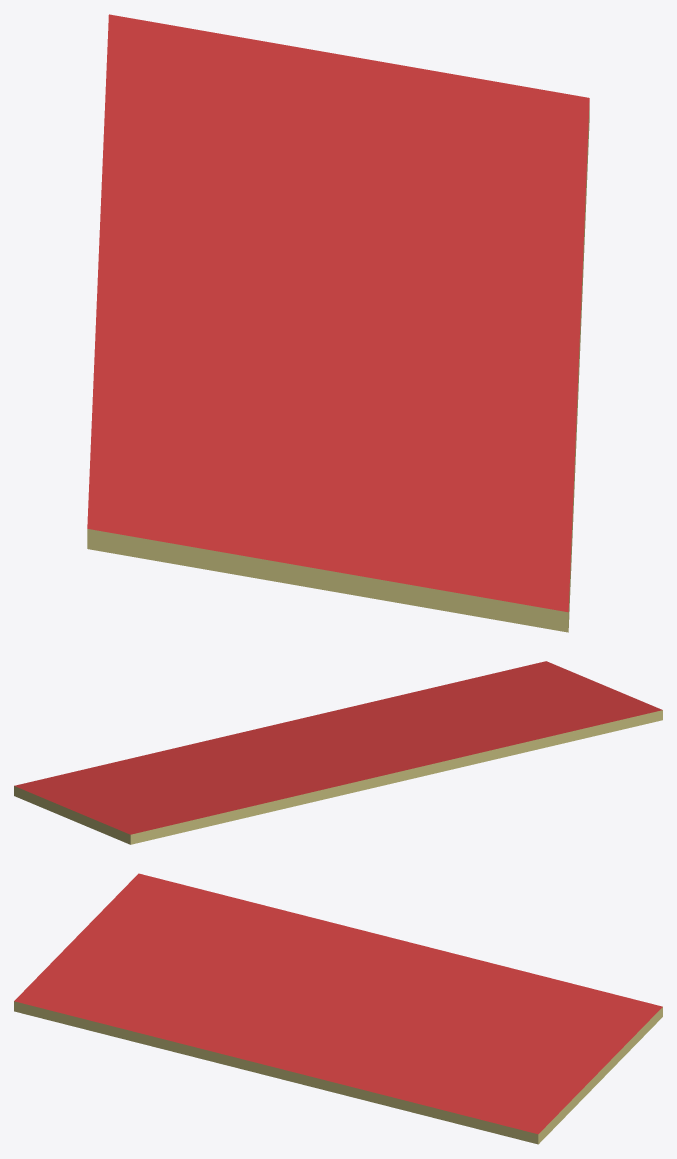
3 renders of one model, top to bottom at view 1: azimuth 30°, elevation 25°; view 2: azimuth 150°, elevation 25°; view 3: azimuth 270°, elevation 25°, orthographic. The views are drawn at different scales.
Size of the model in its own units: 4.65 by 5.78 by 0.495.
